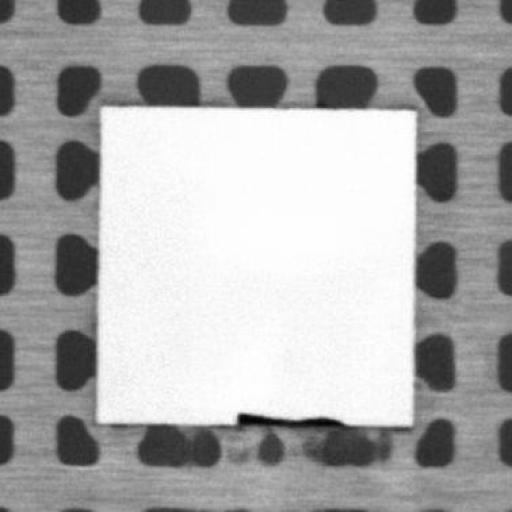DIE_BROKEN: (232, 410, 350, 428)
